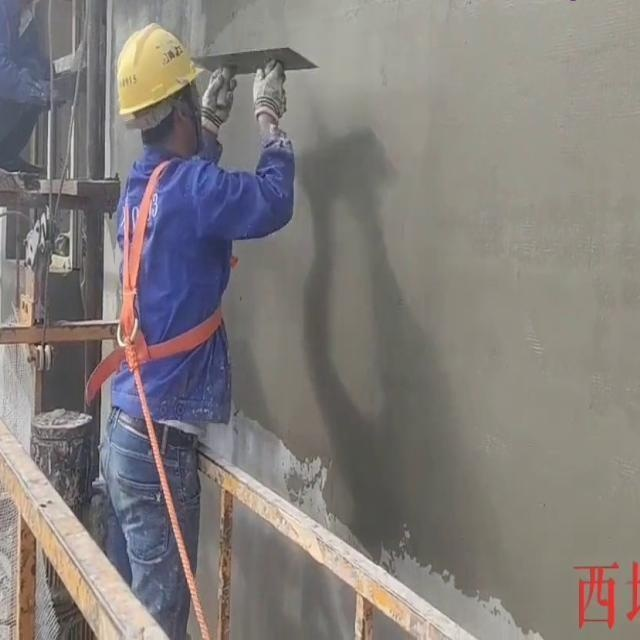Arnes_seguridad: (106, 149, 236, 388)
